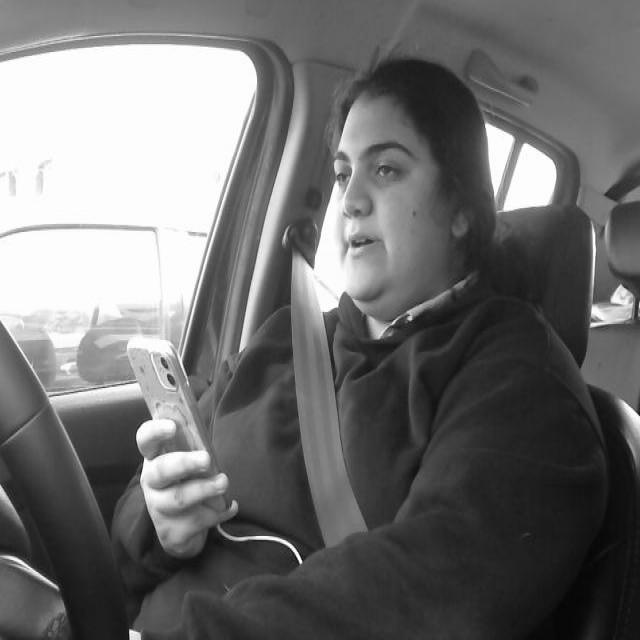mobile use: (123, 338, 230, 542)
